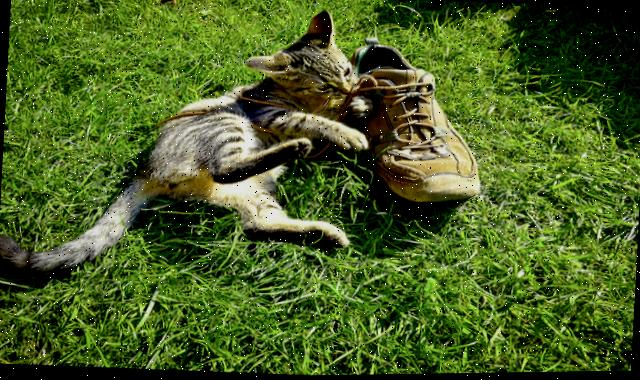cat: (66, 20, 388, 269)
